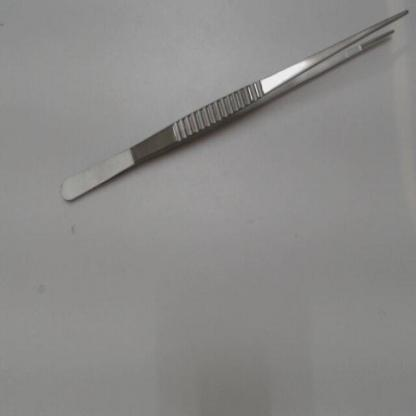DeBakey Dissector: (55, 6, 414, 232)
